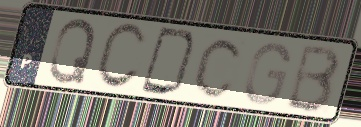B: (282, 43, 344, 116)
C: (92, 20, 149, 92), (191, 35, 246, 101)
D: (137, 24, 200, 98)
G: (241, 40, 293, 107)
Q: (46, 16, 99, 86)
